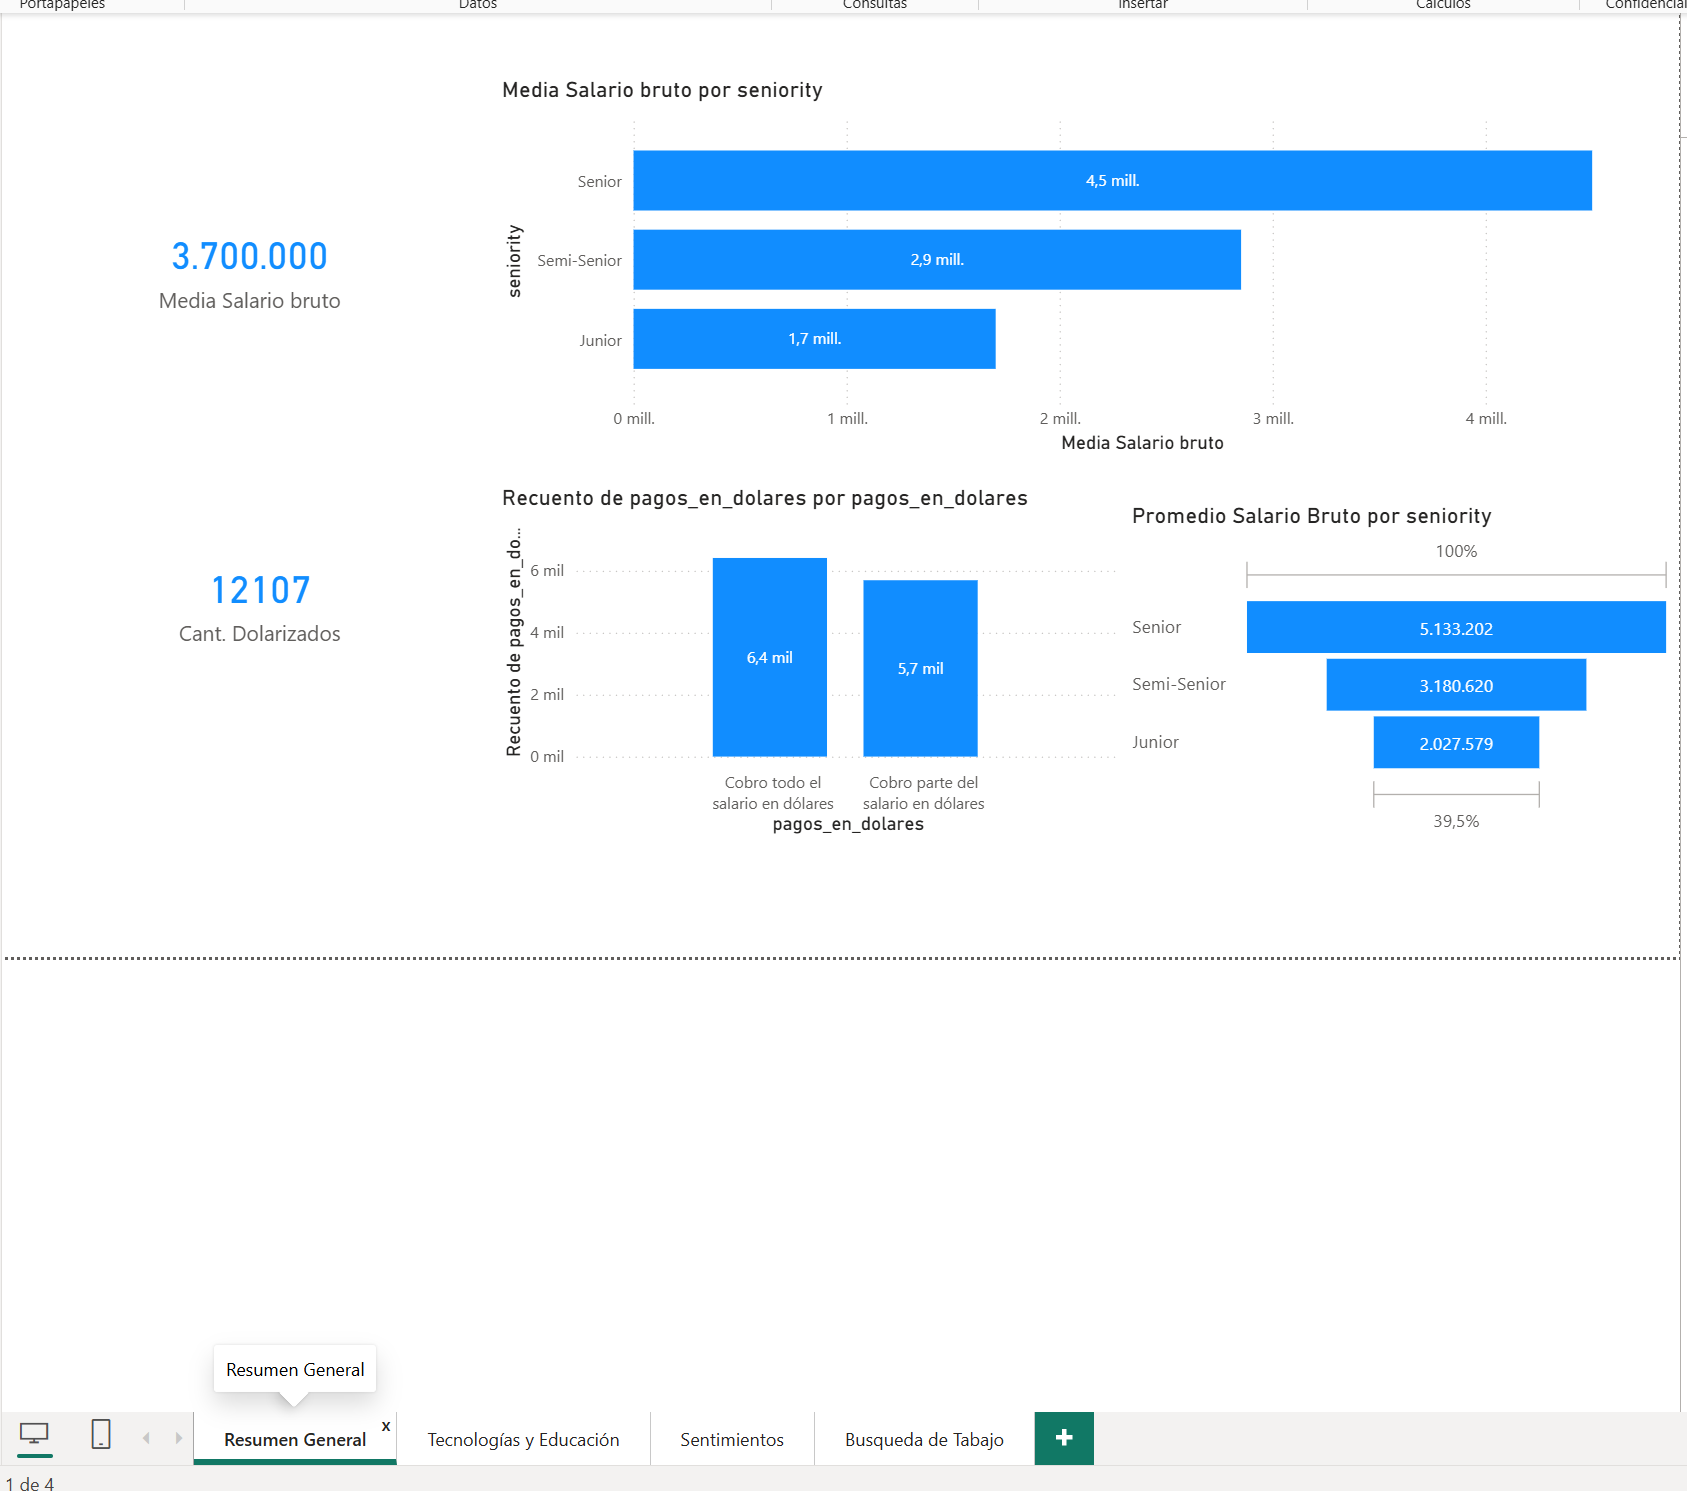

The page's visual inventory and layout, read from the dashboard file:
{"tool":"powerbi","page":{"name":"Resumen General","canvas":[1280,720],"ordinal":0},"visuals":[{"type":"clusteredBarChart","fields":{"Y":["Sysarmy - sueldos - 2026 01CLEA.Media Salario bruto"],"Category":["Sysarmy - sueldos - 2026 01CLEA.seniority"]},"box":[376.3,47.7,903.1,291.9],"z":1},{"type":"card","fields":{"Values":["Sysarmy - sueldos - 2026 01CLEA.Cant. Dolarizados"]},"box":[16.6,339.5,360.6,217.1],"z":3},{"type":"card","fields":{"Values":["Sysarmy - sueldos - 2026 01CLEA.Media Salario bruto"]},"box":[0,47.8,377.2,291.6],"z":4},{"type":"clusteredColumnChart","fields":{"Category":["Sysarmy - sueldos - 2026 01CLEA.pagos_en_dolares"],"Y":["CountNonNull(Sysarmy - sueldos - 2026 01CLEA.pagos_en_dolares)"]},"box":[376.3,359.8,480.9,271.7],"z":5},{"type":"funnel","fields":{"Y":["Sysarmy - sueldos - 2026 01CLEA.Promedio Salario Bruto"],"Category":["Sysarmy - sueldos - 2026 01CLEA.seniority"]},"box":[857.2,372.6,422.2,258.8],"z":6}]}

Visuals, with their boxes on the page's 1280x720 design canvas (x1, y1, x2, y2). These are canvas units, not pixel positions in the 1687x1491 screenshot, which may show the page scaled, cropped or inside an application window:
clusteredBarChart - Sysarmy - sueldos - 2026 01CLEA.Media Salario bruto x Sysarmy - sueldos - 2026 01CLEA.seniority: box=[376, 48, 1279, 340]
card - Sysarmy - sueldos - 2026 01CLEA.Cant. Dolarizados: box=[17, 340, 377, 557]
card - Sysarmy - sueldos - 2026 01CLEA.Media Salario bruto: box=[0, 48, 377, 339]
clusteredColumnChart - Sysarmy - sueldos - 2026 01CLEA.pagos_en_dolares x CountNonNull(Sysarmy - sueldos - 2026 01CLEA.pagos_en_dolares): box=[376, 360, 857, 632]
funnel - Sysarmy - sueldos - 2026 01CLEA.Promedio Salario Bruto x Sysarmy - sueldos - 2026 01CLEA.seniority: box=[857, 373, 1279, 631]
